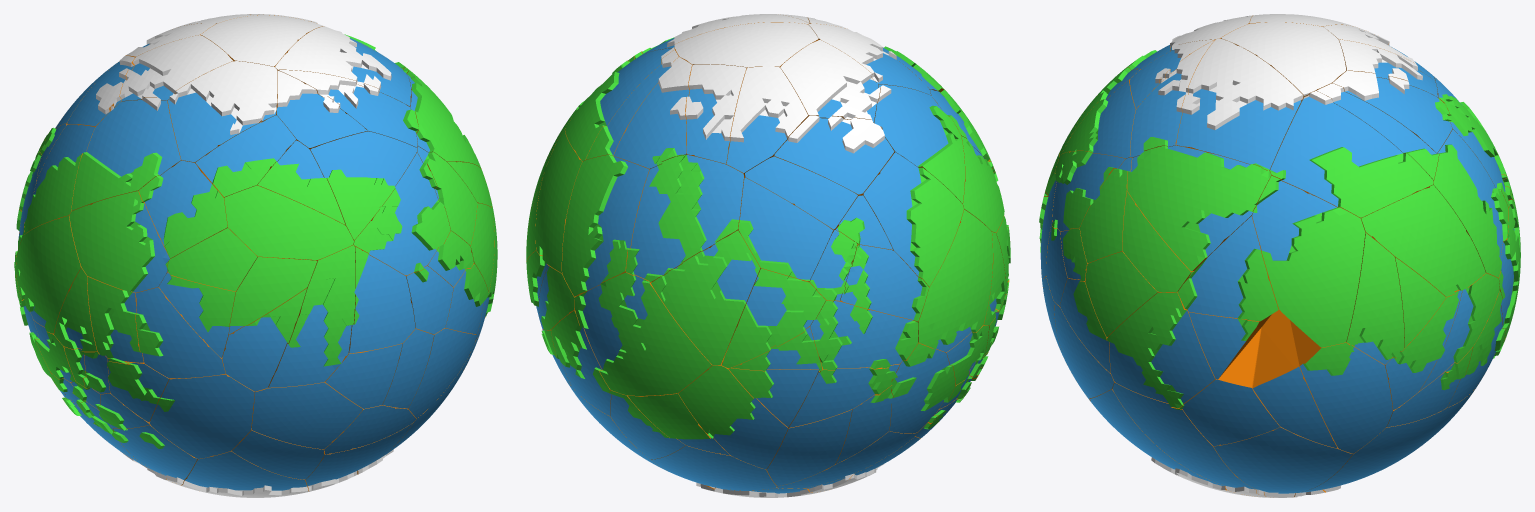
File: earth.glb
3 renders of one model, left to right at view 1: azimuth 30°, elevation 25°; view 2: azimuth 150°, elevation 25°; view 3: azimuth 270°, elevation 25°, orthographic.
Parts seen in each view (by area): view 1: Icosphere_cell.079, Icosphere_cell.073, Icosphere_cell.050, Icosphere_cell.016, Icosphere_cell.025, Icosphere_cell.030, Icosphere_cell.085, Icosphere_cell.051, Icosphere_cell.069, Icosphere_cell.081, Icosphere_cell.077, Icosphere_cell.044 (+42 smaller); view 2: Icosphere_cell.043, Icosphere_cell.006, Icosphere_cell.018, Icosphere_cell.070, Icosphere_cell.022, Icosphere_cell.077, Icosphere_cell.002, Icosphere_cell.079, Icosphere_cell.048, Icosphere_cell.094, Icosphere_cell.093, Icosphere_cell.089 (+36 smaller); view 3: Icosphere_cell.021, Icosphere_cell.027, Icosphere_cell.082, Icosphere_cell.033, Icosphere_cell.024, Icosphere_cell.046, Icosphere_cell.013, Icosphere_cell.068, Icosphere_cell.096, Icosphere_cell.018, Icosphere_cell.054, Icosphere_cell.063 (+32 smaller).
Boxes of the visible parts, bbox=[...] form: Icosphere_cell.079: bbox=[71, 97, 181, 210]; Icosphere_cell.073: bbox=[167, 61, 277, 172]; Icosphere_cell.050: bbox=[69, 191, 169, 292]; Icosphere_cell.016: bbox=[268, 245, 355, 387]; Icosphere_cell.025: bbox=[149, 373, 254, 458]; Icosphere_cell.030: bbox=[353, 152, 450, 275]; Icosphere_cell.085: bbox=[224, 185, 353, 259]; Icosphere_cell.051: bbox=[310, 131, 416, 240]; Icosphere_cell.069: bbox=[139, 160, 244, 258]; Icosphere_cell.081: bbox=[251, 382, 363, 449]; Icosphere_cell.077: bbox=[16, 216, 81, 333]; Icosphere_cell.044: bbox=[135, 287, 225, 378]; Icosphere_cell.043: bbox=[574, 272, 711, 395]; Icosphere_cell.006: bbox=[626, 154, 744, 282]; Icosphere_cell.018: bbox=[562, 154, 649, 296]; Icosphere_cell.070: bbox=[651, 230, 761, 365]; Icosphere_cell.022: bbox=[860, 152, 963, 286]; Icosphere_cell.077: bbox=[913, 209, 992, 352]; Icosphere_cell.002: bbox=[678, 339, 787, 469]; Icosphere_cell.079: bbox=[873, 84, 964, 203]; Icosphere_cell.048: bbox=[774, 115, 894, 196]; Icosphere_cell.094: bbox=[738, 177, 832, 281]; Icosphere_cell.093: bbox=[810, 299, 918, 369]; Icosphere_cell.089: bbox=[726, 66, 807, 177]; Icosphere_cell.021: bbox=[1252, 175, 1365, 347]; Icosphere_cell.027: bbox=[1270, 91, 1433, 218]; Icosphere_cell.082: bbox=[1127, 145, 1271, 271]; Icosphere_cell.033: bbox=[1176, 38, 1303, 170]; Icosphere_cell.024: bbox=[1107, 291, 1215, 408]; Icosphere_cell.046: bbox=[1361, 185, 1485, 296]; Icosphere_cell.013: bbox=[1290, 320, 1392, 453]; Icosphere_cell.068: bbox=[1177, 216, 1278, 321]; Icosphere_cell.096: bbox=[1213, 427, 1352, 497]; Icosphere_cell.018: bbox=[1425, 129, 1508, 277]; Icosphere_cell.054: bbox=[1252, 309, 1337, 448]; Icosphere_cell.063: bbox=[1221, 22, 1346, 98].
Bounding box in the file's own units: 2.03 × 2.04 × 2.03.
